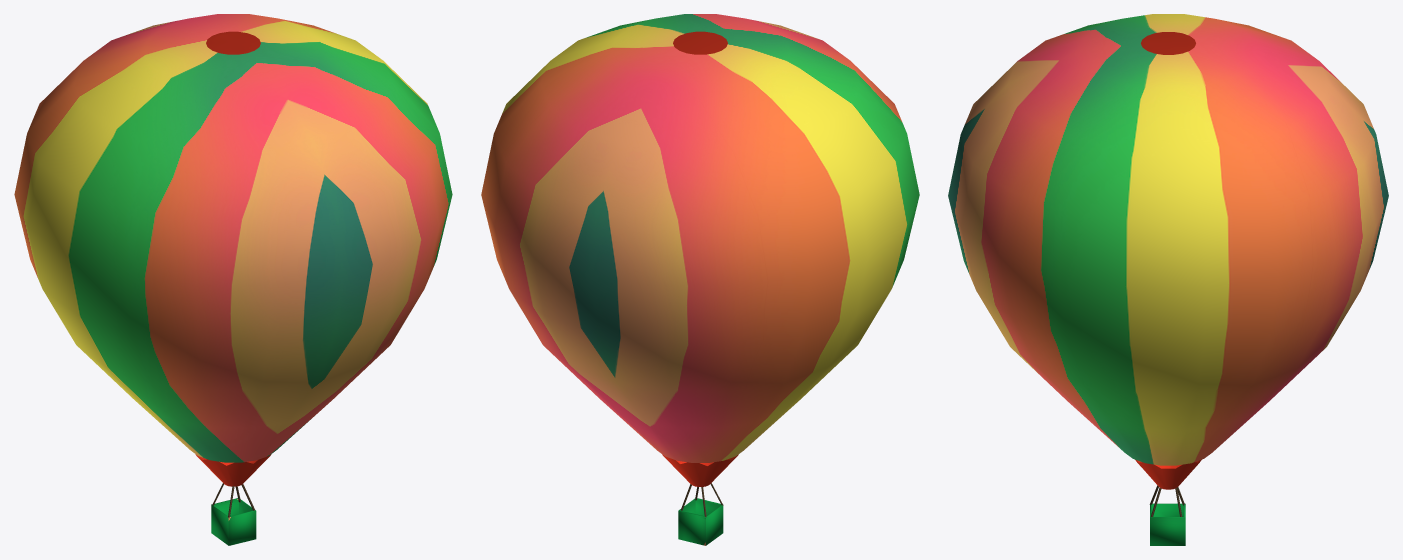
The model's file is parachute.FBX.
3 renders of one model, left to right at view 1: azimuth 30°, elevation 25°; view 2: azimuth 150°, elevation 25°; view 3: azimuth 270°, elevation 25°, orthographic.
Visible parts, largest first — view 1: Sphere001; view 2: Sphere001; view 3: Sphere001.
Boxes of the visible parts, x1,y1,x2,y2 form: Sphere001: (14,14,452,545); Sphere001: (481,14,919,545); Sphere001: (948,14,1388,545).
Size of the model in its own units: 322 by 406 by 327.
